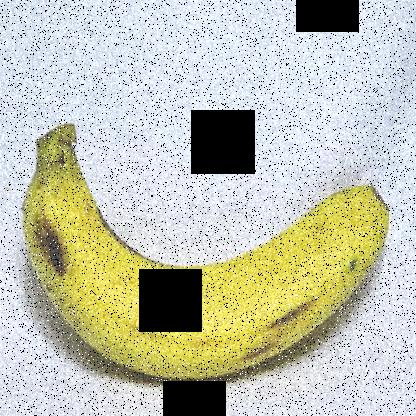freshripe: (6, 103, 400, 392)
